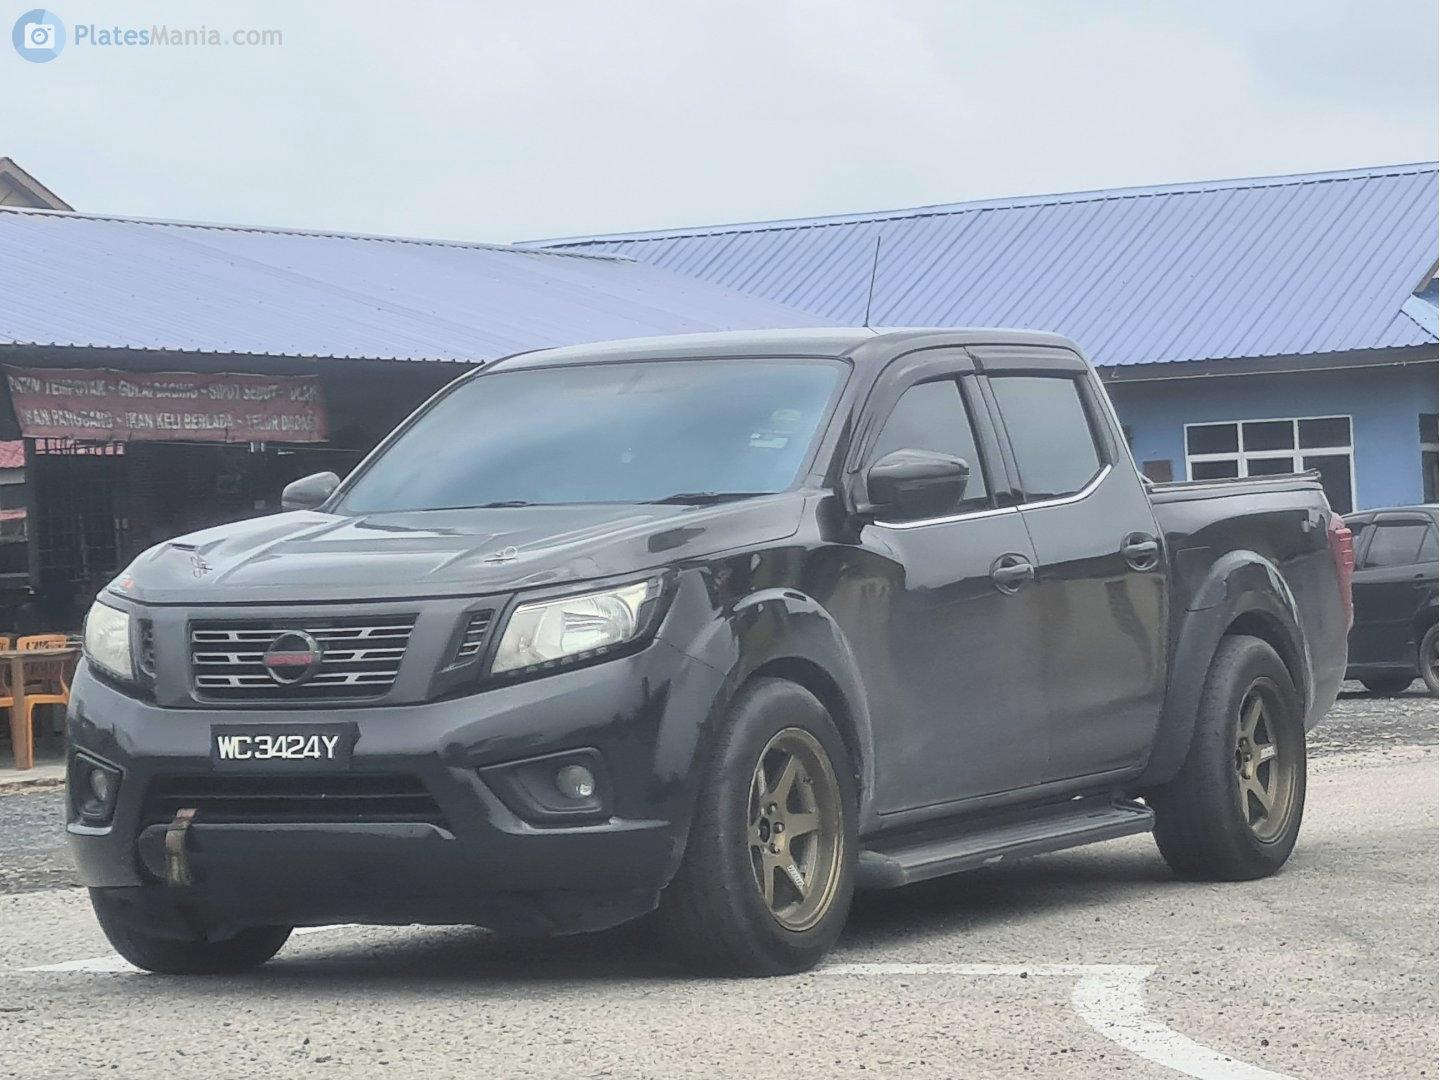License Plate: (213, 724, 354, 770)
